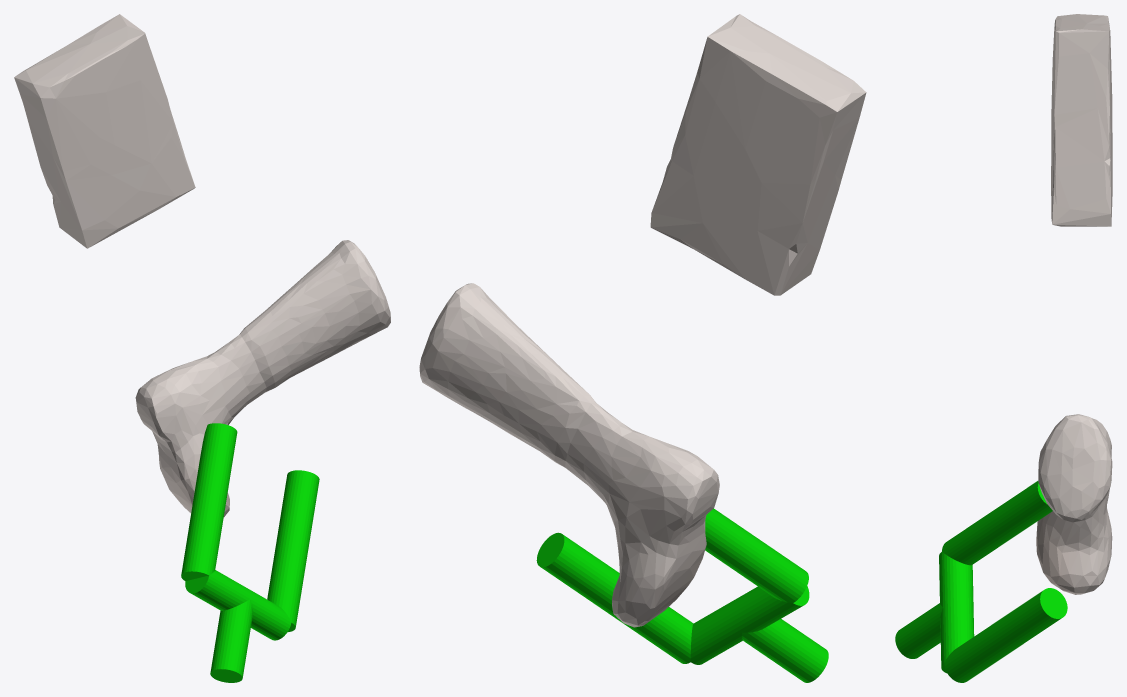
Rendered from round_000_trial_003.obj.
3 renders of one model, left to right at view 1: azimuth 30°, elevation 25°; view 2: azimuth 150°, elevation 25°; view 3: azimuth 270°, elevation 25°, orthographic. The views are drawn at different scales.
Parts seen in each view (by area): view 1: geometry_0, geometry_1; view 2: geometry_0, geometry_1; view 3: geometry_0, geometry_1.
Boxes of the visible parts, left/top/right/bottom form: geometry_0: left=14, top=14, right=390, bottom=516; geometry_1: left=181, top=423, right=319, bottom=682; geometry_0: left=419, top=14, right=866, bottom=627; geometry_1: left=536, top=508, right=828, bottom=682; geometry_0: left=1036, top=14, right=1112, bottom=594; geometry_1: left=895, top=481, right=1067, bottom=682.
Bounding box in the file's own units: 0.1253 × 0.2036 × 0.0648.
